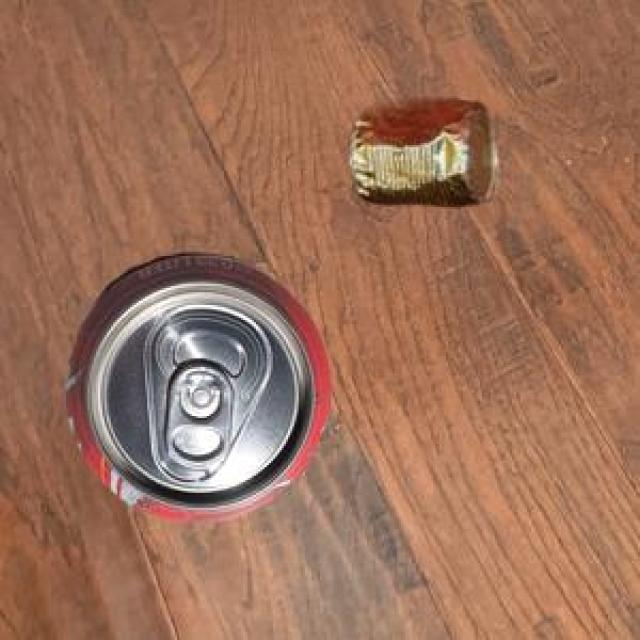Can: (63, 251, 327, 519), (347, 97, 496, 204)
